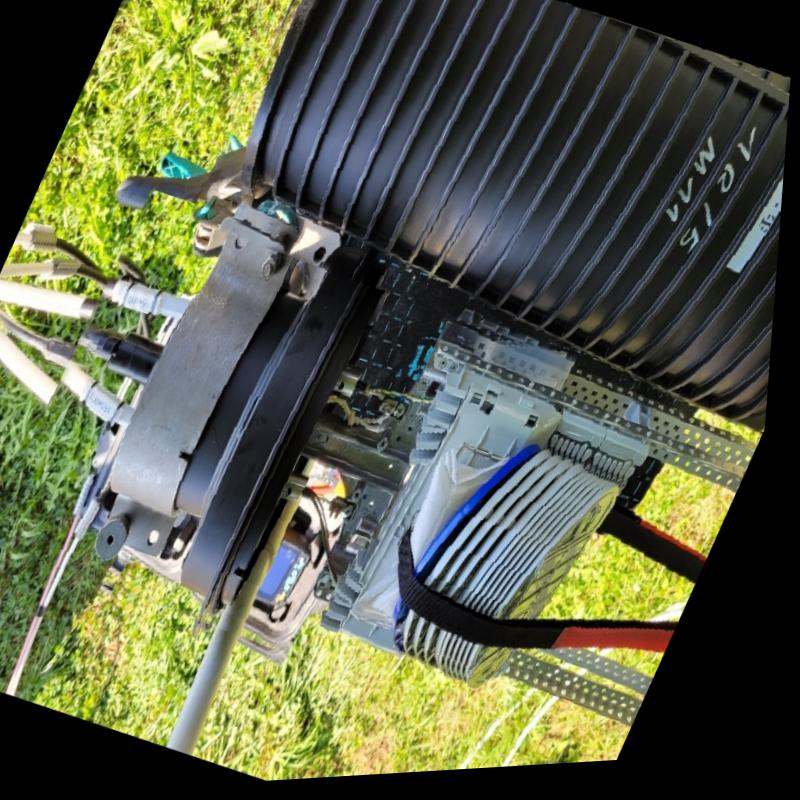NT-Muffen: (71, 219, 766, 760), (234, 0, 793, 440)
